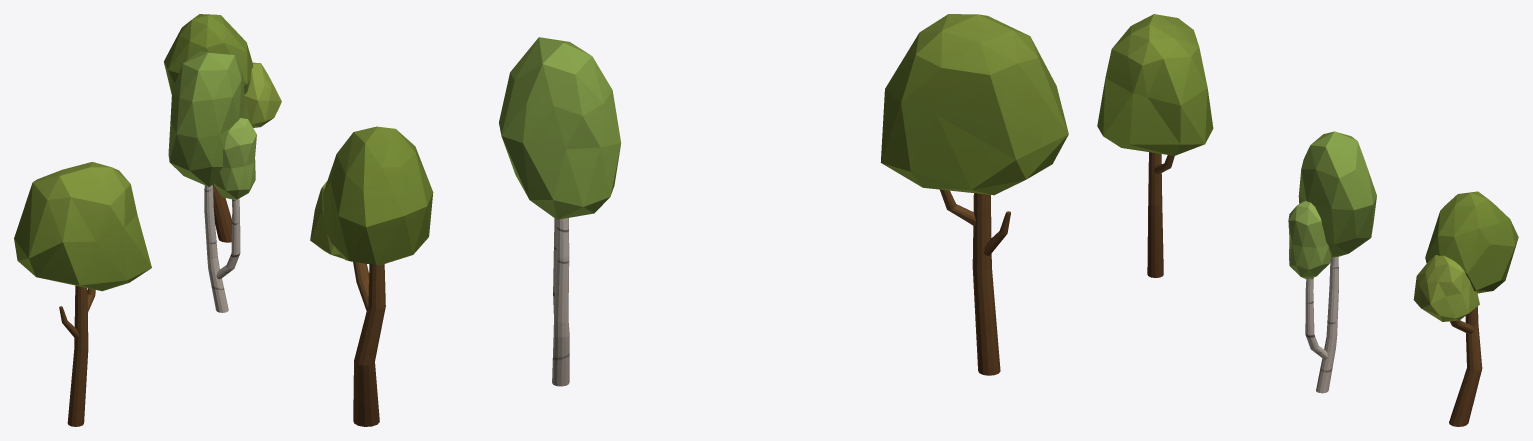
File: Trees4.gltf
3 views of the same model, side by side, from view 1: azimuth 30°, elevation 25°; view 2: azimuth 150°, elevation 25°; view 3: azimuth 270°, elevation 25° (orthographic). The views are drawn at different scales.
Parts seen in each view (by area): view 1: Beechtree3 - copy.045, BirchTree2 - copy.045, Beechtree2 - copy.045; view 2: Beechtree3 - copy.045, BirchTree2 - copy.045, Beechtree2 - copy.045; view 3: Beechtree3 - copy.045, BirchTree2 - copy.045, Beechtree2 - copy.045.
Part boxes in pixels (x1,y1,x2,y2): Beechtree3 - copy.045: (14,162,151,426); BirchTree2 - copy.045: (168,51,256,312); Beechtree2 - copy.045: (164,14,281,242); Beechtree3 - copy.045: (880,14,1068,375); BirchTree2 - copy.045: (499,37,621,386); Beechtree2 - copy.045: (310,126,433,426); Beechtree3 - copy.045: (1097,14,1213,277); BirchTree2 - copy.045: (1288,131,1376,393); Beechtree2 - copy.045: (1413,191,1518,426).
Bounding box in the file's own units: 18.39 × 11.45 × 16.85.
Materials: 3 (3 with a texture image).
